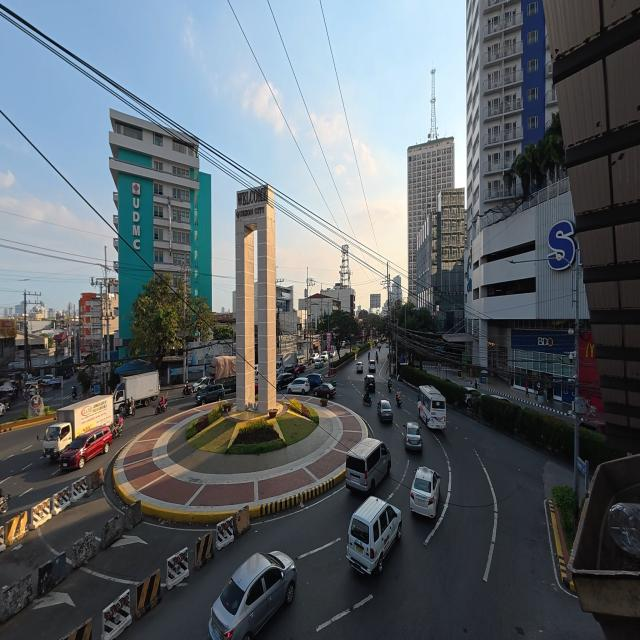bus: (418, 386, 446, 429)
car: (209, 551, 296, 639), (60, 427, 112, 470), (410, 467, 440, 517), (196, 383, 226, 406), (405, 422, 422, 452), (377, 399, 393, 422), (288, 378, 310, 394), (314, 383, 336, 398), (465, 387, 481, 405), (192, 377, 211, 392), (307, 373, 323, 390), (277, 373, 294, 389), (41, 375, 61, 387), (24, 381, 38, 397), (490, 394, 511, 403), (364, 375, 375, 392), (281, 364, 296, 376), (292, 363, 305, 375), (62, 370, 73, 380), (42, 375, 54, 384), (314, 359, 324, 368), (276, 361, 283, 373), (321, 351, 329, 361), (356, 362, 363, 373), (0, 403, 6, 415), (369, 361, 375, 372), (312, 353, 320, 361), (341, 341, 345, 348)
motorcycle: (111, 417, 123, 437), (121, 402, 135, 417), (0, 494, 10, 514), (155, 403, 167, 414), (182, 385, 193, 397), (363, 395, 372, 405), (396, 396, 401, 407), (72, 389, 77, 400), (388, 380, 392, 392), (376, 353, 378, 363)
trucks: (43, 396, 113, 459), (114, 371, 159, 411), (208, 356, 236, 392)
vans: (347, 497, 401, 573), (346, 438, 391, 491)
